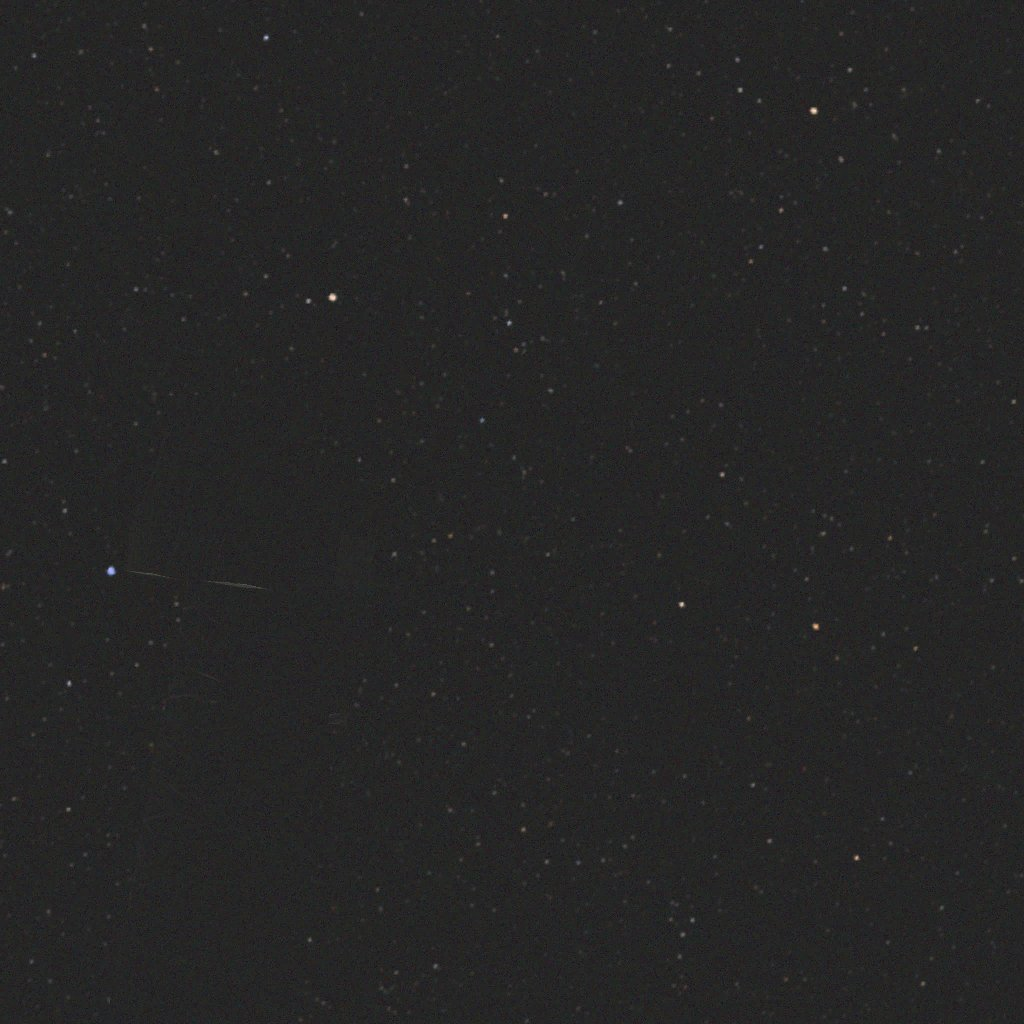xmm_newton: (106, 393, 393, 1024)
